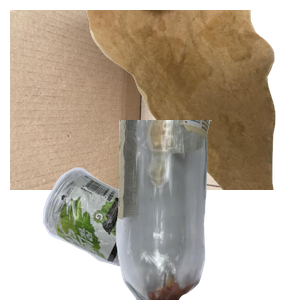cardboard: (10, 10, 250, 190)
glass: (113, 120, 300, 300)
plastic: (40, 165, 235, 300)
trash: (84, 10, 300, 190)
